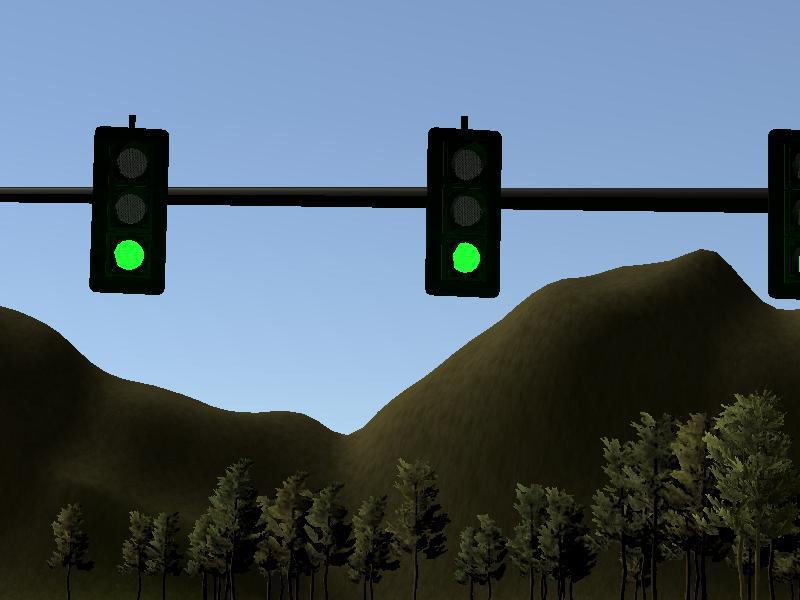Green: (95, 126, 164, 292), (430, 130, 496, 297)
